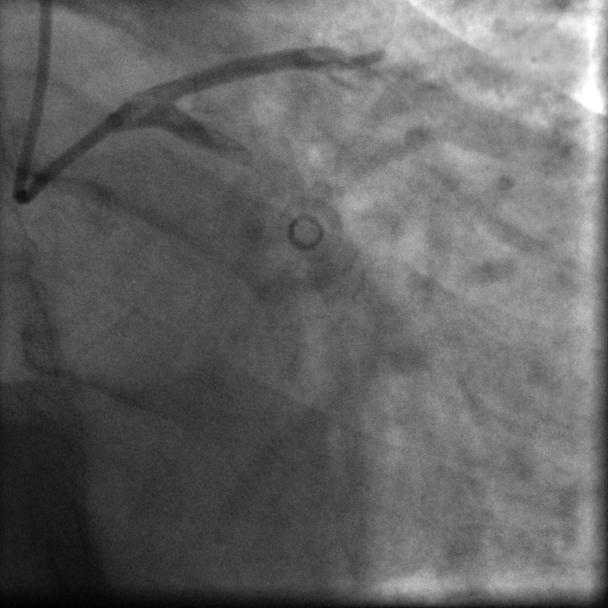Stenosis: (246, 141, 274, 167)
